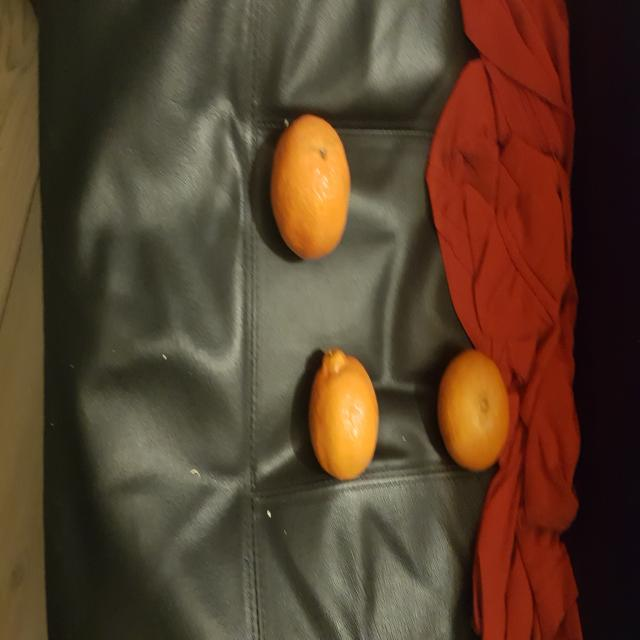Orange: (268, 115, 351, 263), (307, 349, 380, 483), (436, 350, 512, 473)
